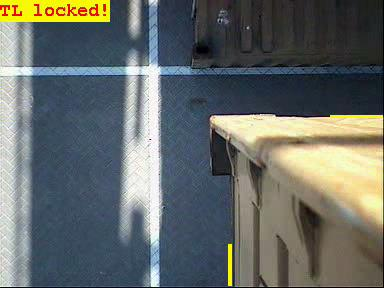groundmarker_2: (99, 53, 208, 149)
